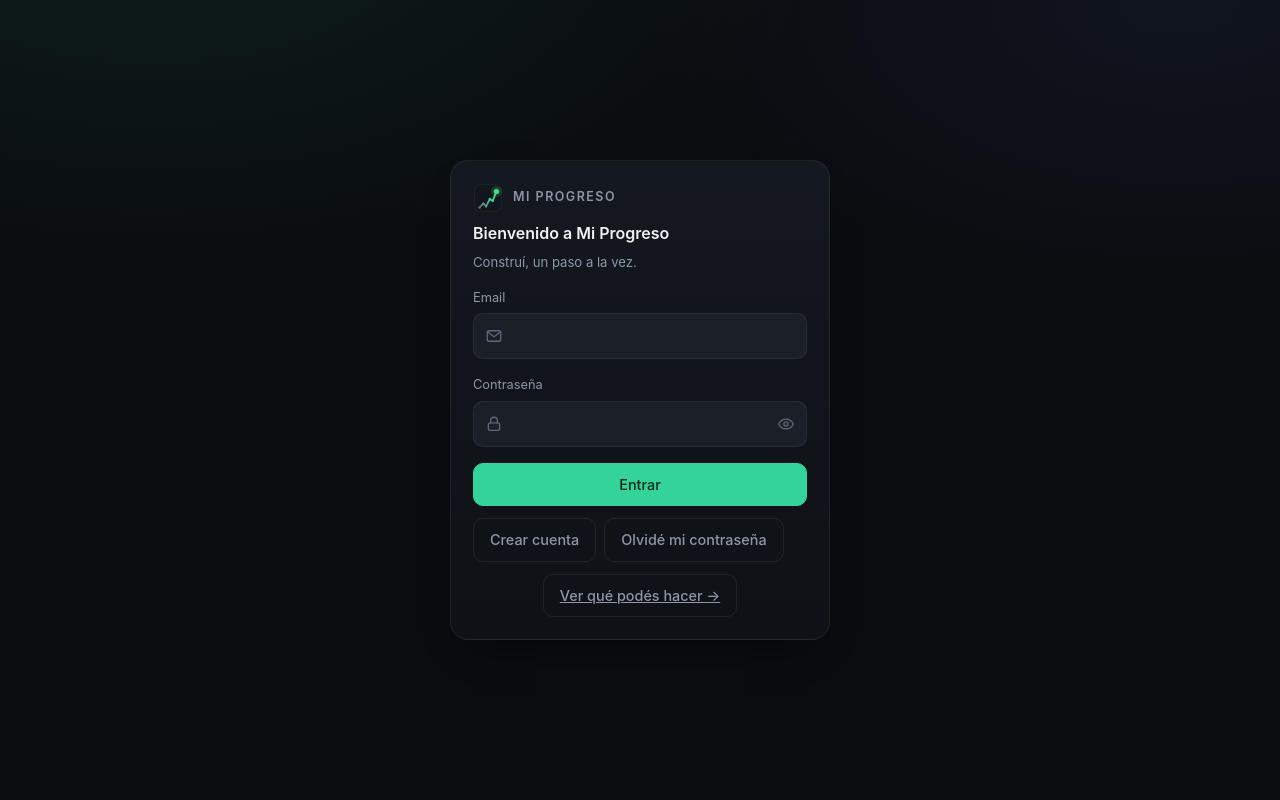
Test case: AuthGate › no envía el formulario de login si falta el email o la contraseña
The image size is (1280, 800).
Click the button "Entrar" at (640, 484), box [473, 463, 807, 506]
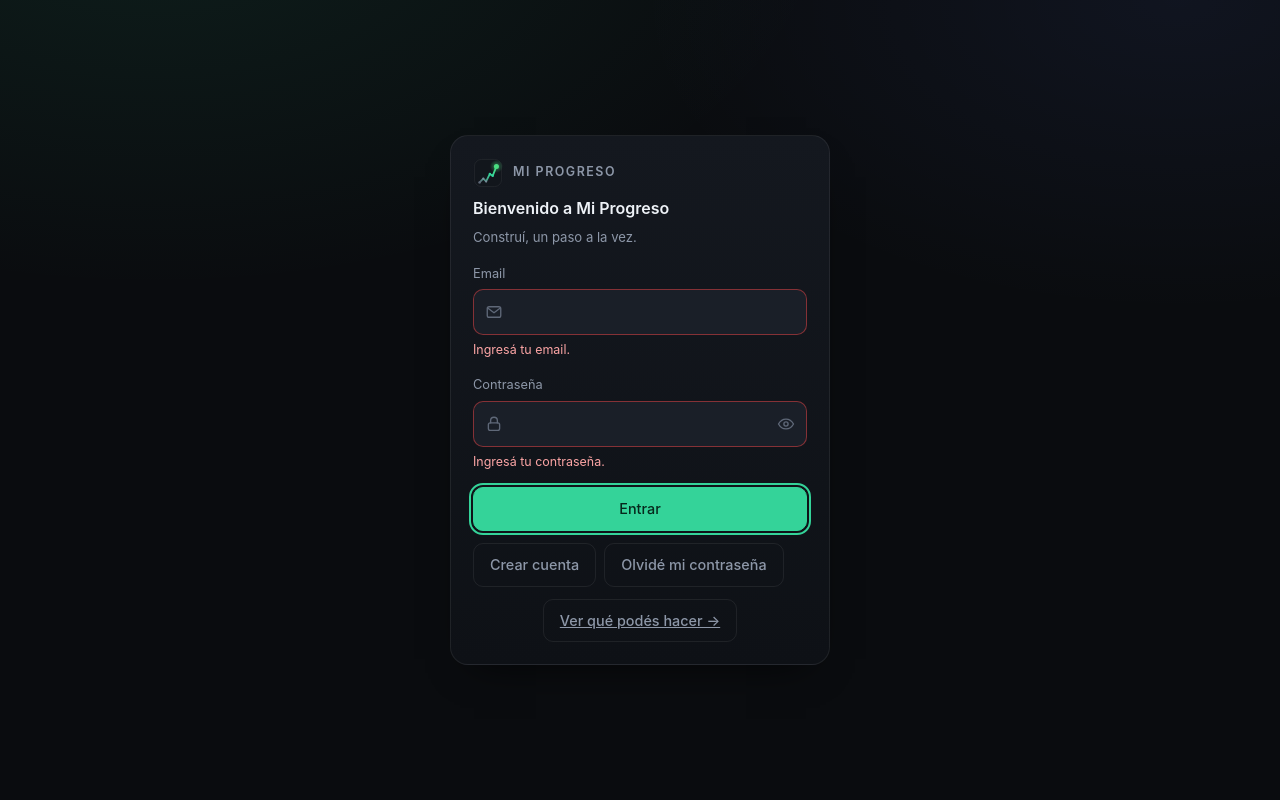
Expected: the text "Ingresá tu email." is shown, [473, 342, 570, 357]
Expected: the text "Ingresá tu contraseña." is shown, [473, 454, 605, 469]
